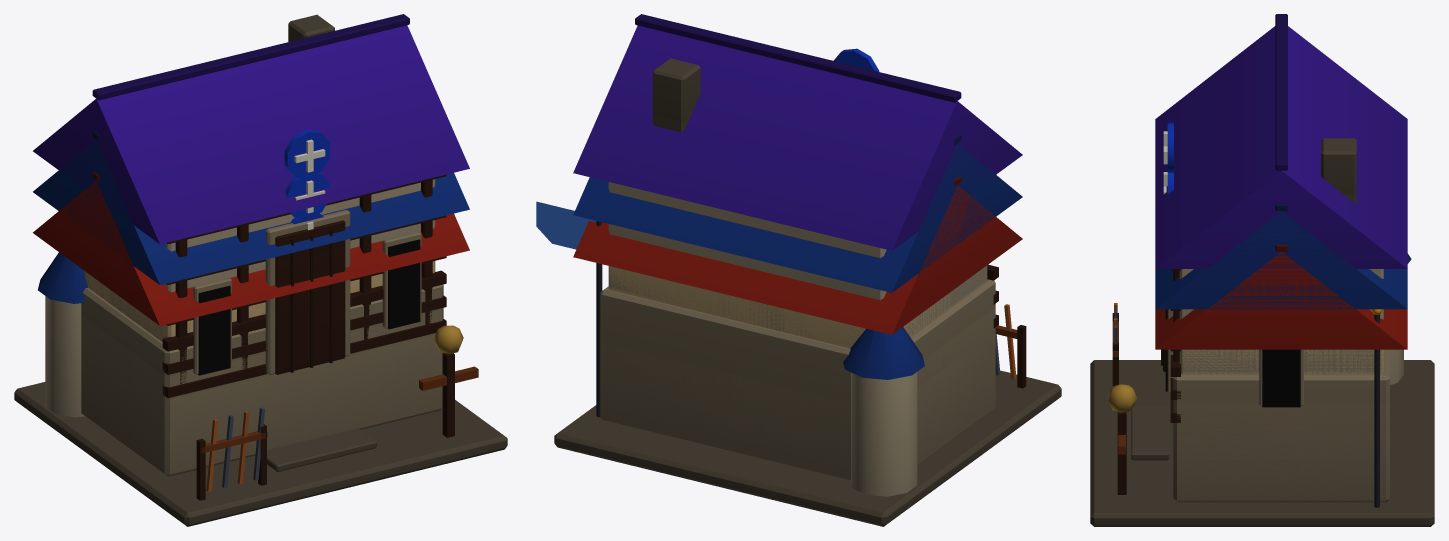
File: b_barracks.glb
The picture shows the model from 3 angles, left to right: view 1: azimuth 30°, elevation 25°; view 2: azimuth 150°, elevation 25°; view 3: azimuth 270°, elevation 25°; orthographic projection. The views are drawn at different scales.
Visible parts, largest first — view 1: barracks_t3_body, barracks_t1_body, barracks_t2_body; view 2: barracks_t3_body, barracks_t1_body, barracks_t2_body, barracks_t1__banner; view 3: barracks_t3_body, barracks_t1_body, barracks_t2_body.
Boxes of the visible parts, box(x1,y1,x2,y2) form: barracks_t3_body: box(33, 14, 469, 473); barracks_t1_body: box(14, 171, 507, 526); barracks_t2_body: box(33, 130, 469, 473); barracks_t3_body: box(573, 14, 1022, 478); barracks_t1_body: box(554, 176, 1061, 526); barracks_t2_body: box(573, 115, 1022, 496); barracks_t1__banner: box(536, 201, 596, 249); barracks_t3_body: box(1155, 14, 1407, 500); barracks_t1_body: box(1090, 244, 1434, 526); barracks_t2_body: box(1155, 172, 1411, 500).
Bounding box in the file's own units: 3.3 × 3.13 × 2.7.
